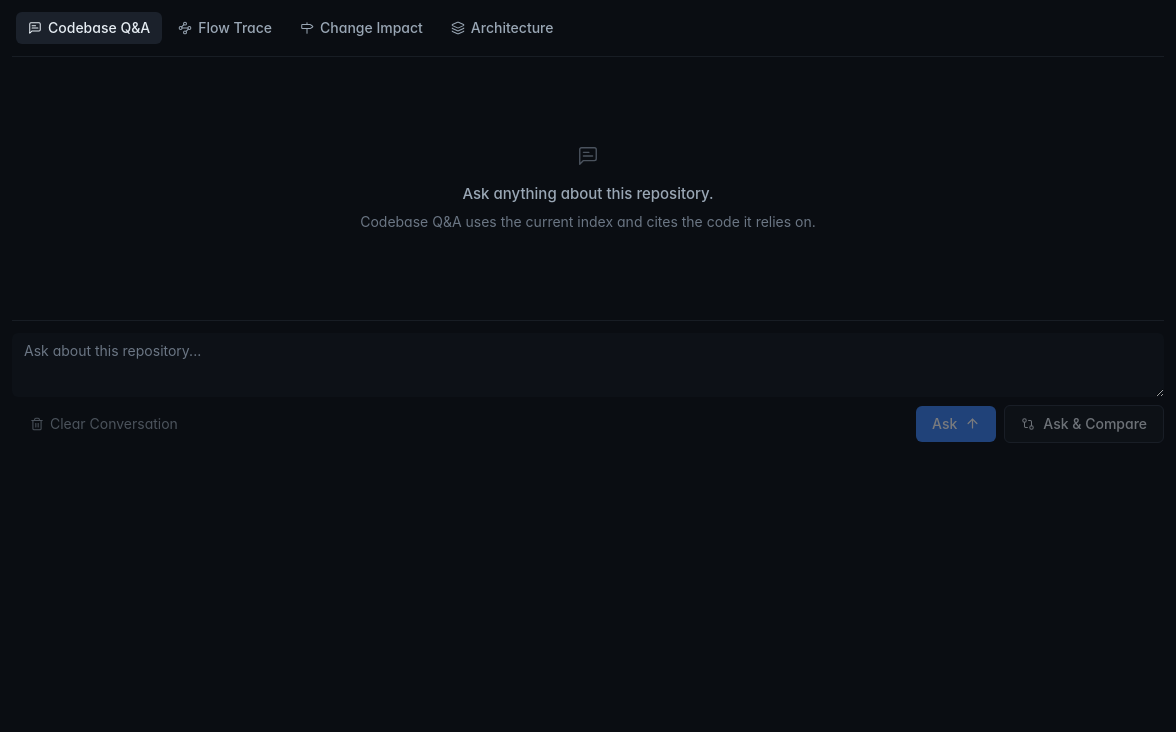
Test: analysis workspace › clears the shared client-side conversation in impact mode
Click the tab "Change Impact".
click(361, 28)  # box [288,12,435,44]
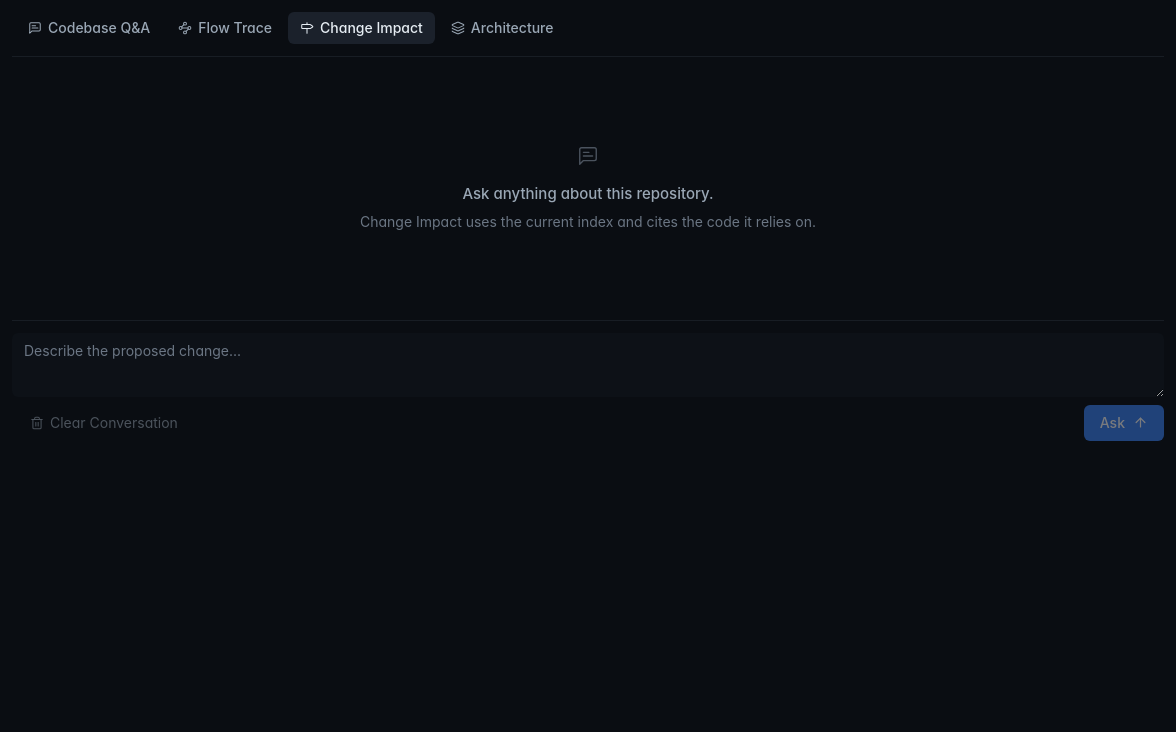
Type "Clear this request" into the text box labelled "Describe the proposed change".
click(588, 364); type("Clear this request")  # box [12,332,1164,396]
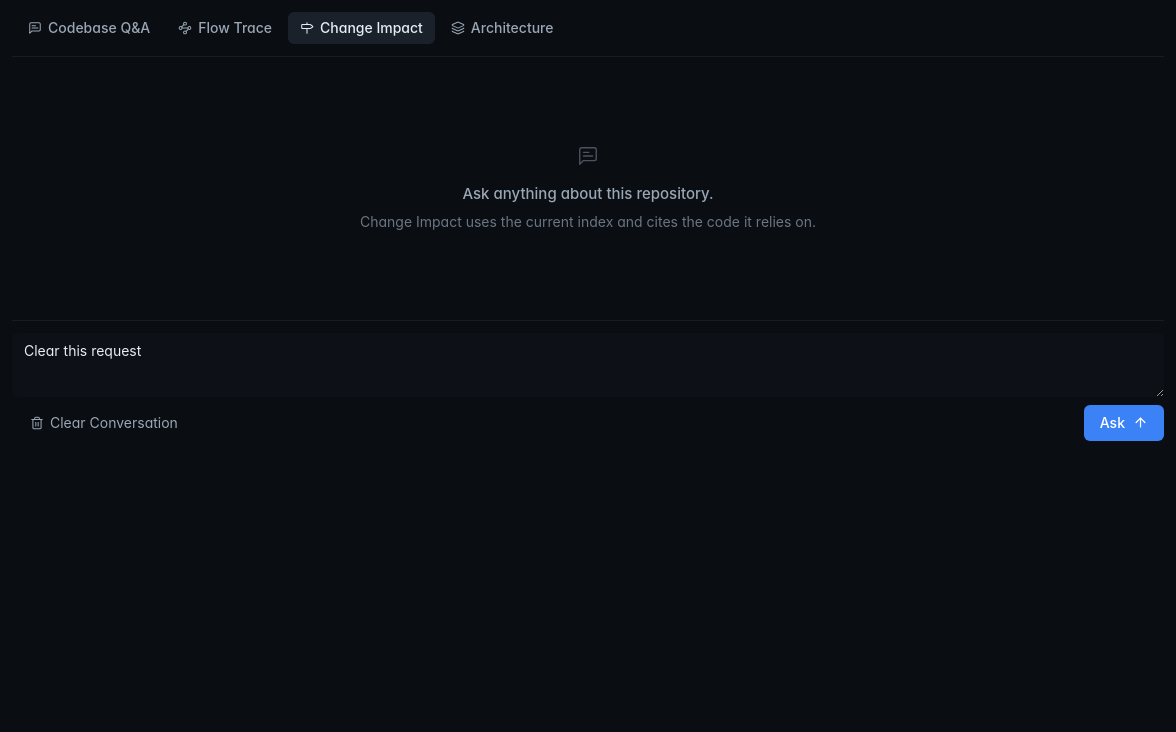
Click the button "Ask".
click(1124, 422)  # box [1084,404,1164,440]
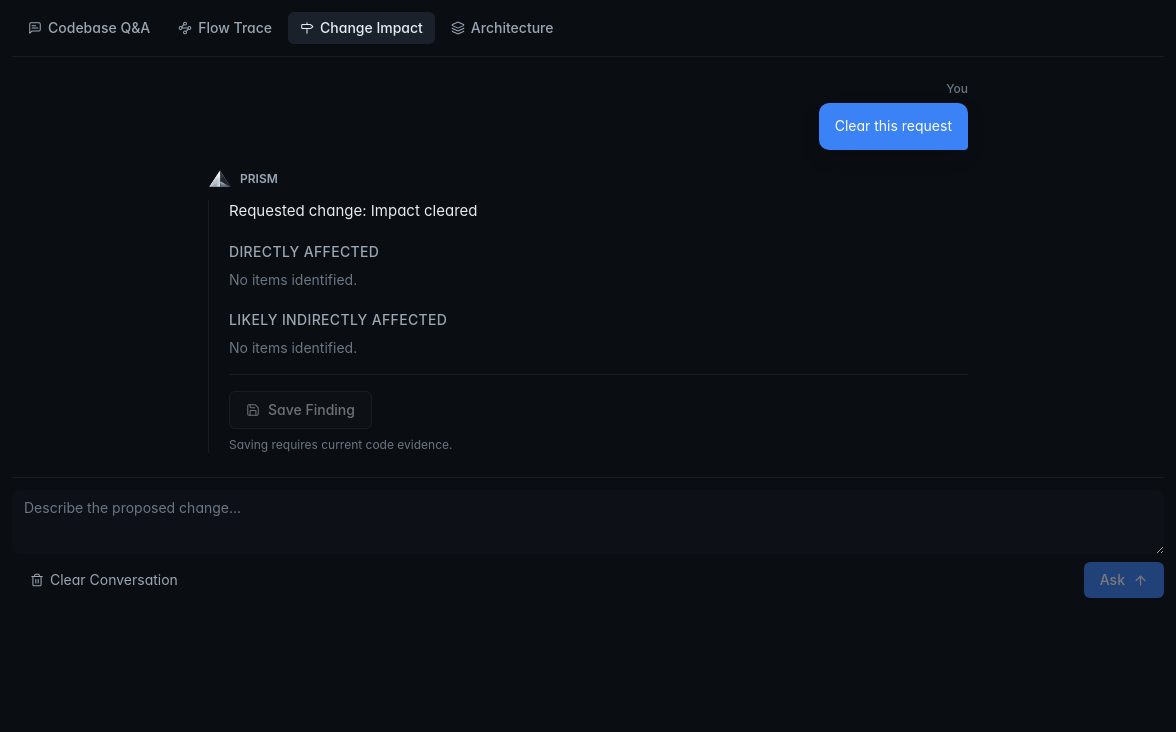
Expected: the text "Requested change: Impact cleared" is shown, [229,201,478,220]
Click the button "Clear Conversation".
click(104, 580)  # box [20,564,188,596]
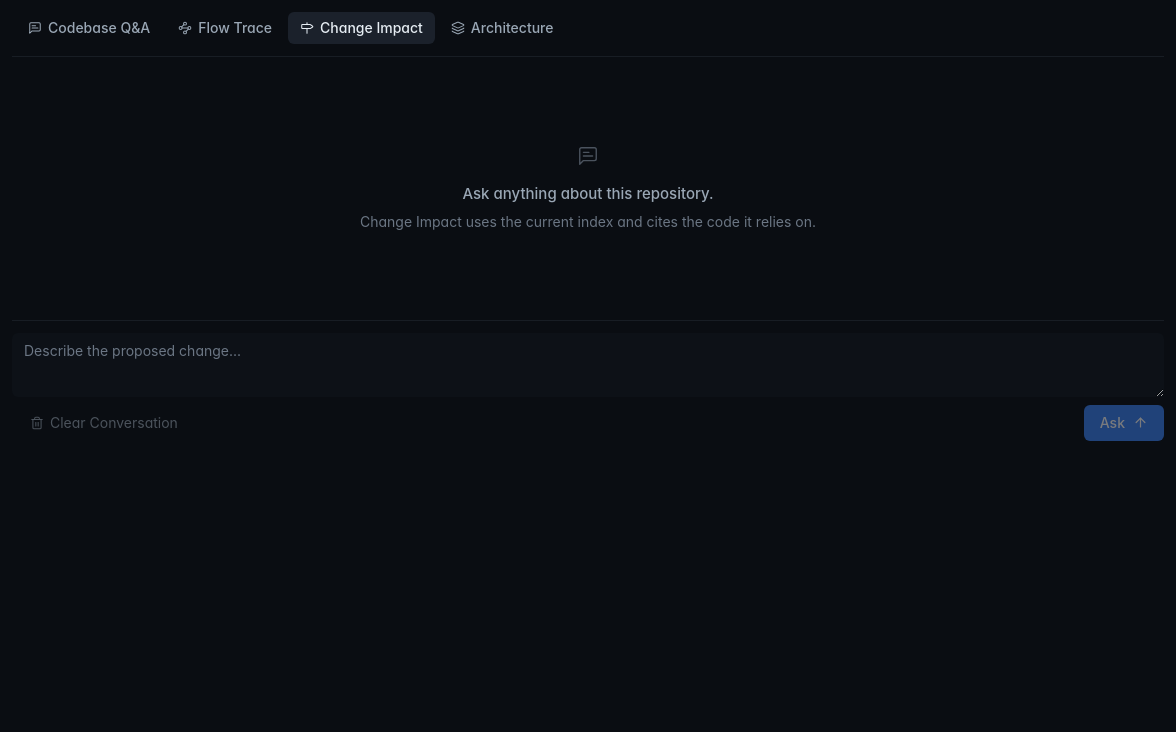
Expected: the text box labelled "Describe the proposed change" is empty, [12,332,1164,396]
Expected: the text "Requested change: Impact cleared" is gone
Expected: the text "Ask anything about this repository." is shown, [462,183,714,206]
